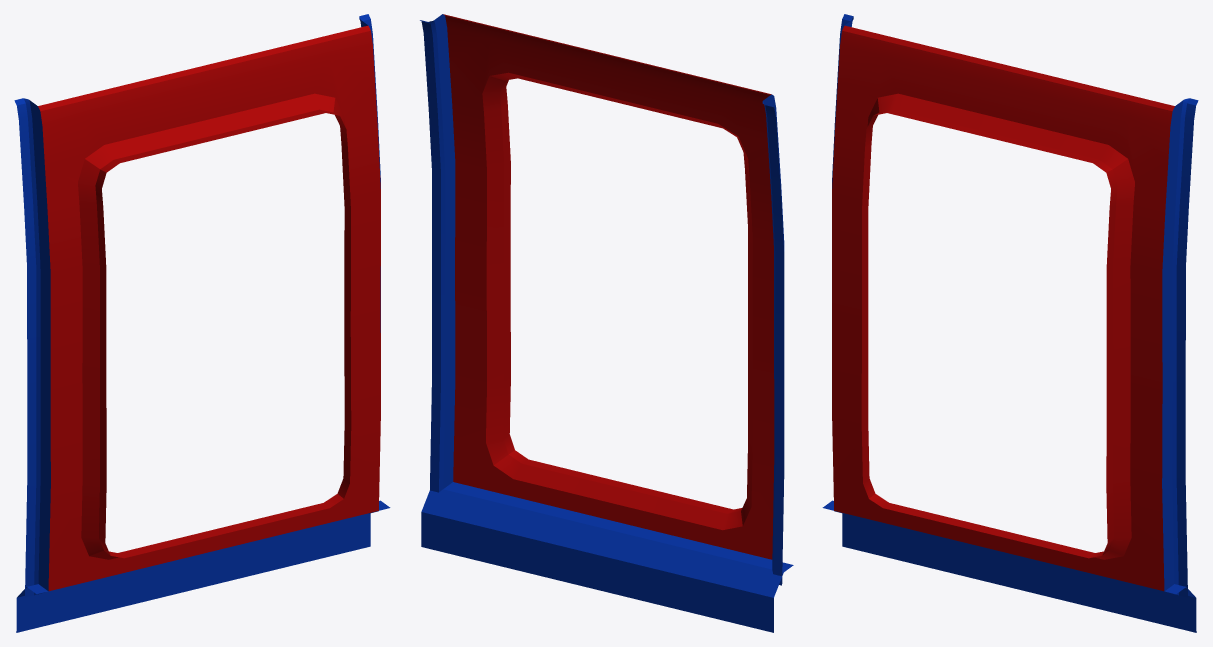
Rendered from asset_murint_murporte.fbx.
3 renders of one model, left to right at view 1: azimuth 30°, elevation 25°; view 2: azimuth 150°, elevation 25°; view 3: azimuth 330°, elevation 25°, orthographic.
Visible parts, largest first — view 1: asset_murint_murporte; view 2: asset_murint_murporte; view 3: asset_murint_murporte.
Boxes of the visible parts, left/top/right/bottom form: asset_murint_murporte: left=14, top=14, right=390, bottom=632; asset_murint_murporte: left=420, top=14, right=793, bottom=632; asset_murint_murporte: left=822, top=14, right=1198, bottom=632.
Size of the model in its own units: 2 by 2.86 by 0.3671.
